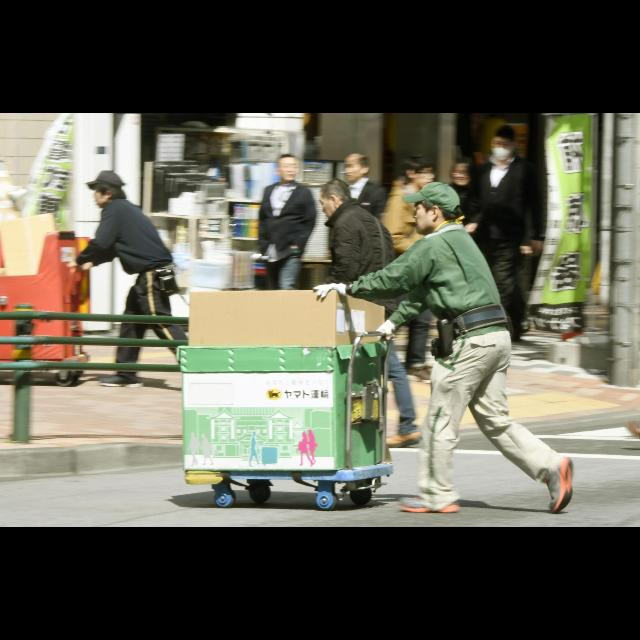head: (413, 184, 461, 236), (320, 178, 350, 220), (404, 153, 436, 189), (489, 125, 517, 161), (342, 152, 370, 182), (449, 157, 477, 187), (94, 177, 120, 209), (276, 154, 300, 182), (510, 127, 530, 157)
person: (310, 180, 578, 518), (62, 168, 224, 392), (303, 178, 423, 448), (377, 152, 448, 386), (462, 124, 534, 346), (256, 150, 318, 352), (494, 121, 552, 333), (326, 150, 388, 340), (432, 156, 488, 354)
